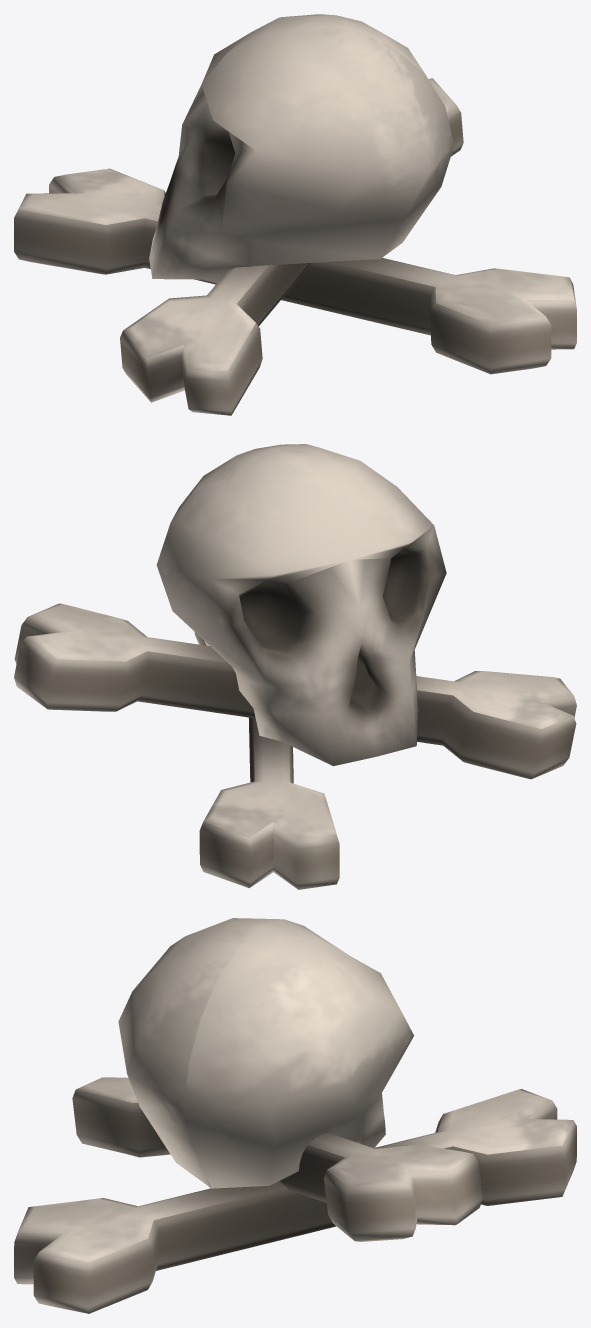
The model's file is SM_bones_RESS.fbx.
The picture shows the model from 3 angles, top to bottom: view 1: azimuth 30°, elevation 25°; view 2: azimuth 150°, elevation 25°; view 3: azimuth 270°, elevation 25°; orthographic projection. The views are drawn at different scales.
Parts seen in each view (by area): view 1: SM_bones_RESS; view 2: SM_bones_RESS; view 3: SM_bones_RESS.
Boxes of the visible parts, x1,y1,x2,y2 form: SM_bones_RESS: [14, 14, 576, 415]; SM_bones_RESS: [14, 444, 576, 889]; SM_bones_RESS: [14, 918, 576, 1313].
Size of the model in its own units: 1.67 by 1.1 by 1.87.
